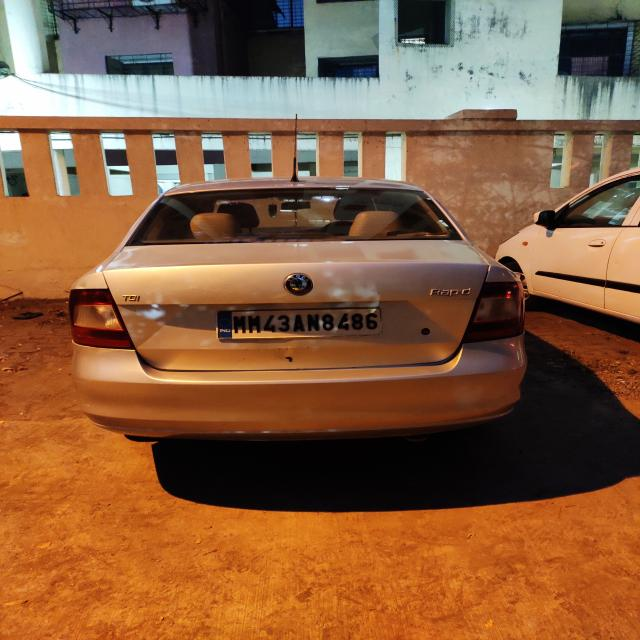Number-Plate: (218, 307, 380, 335)
